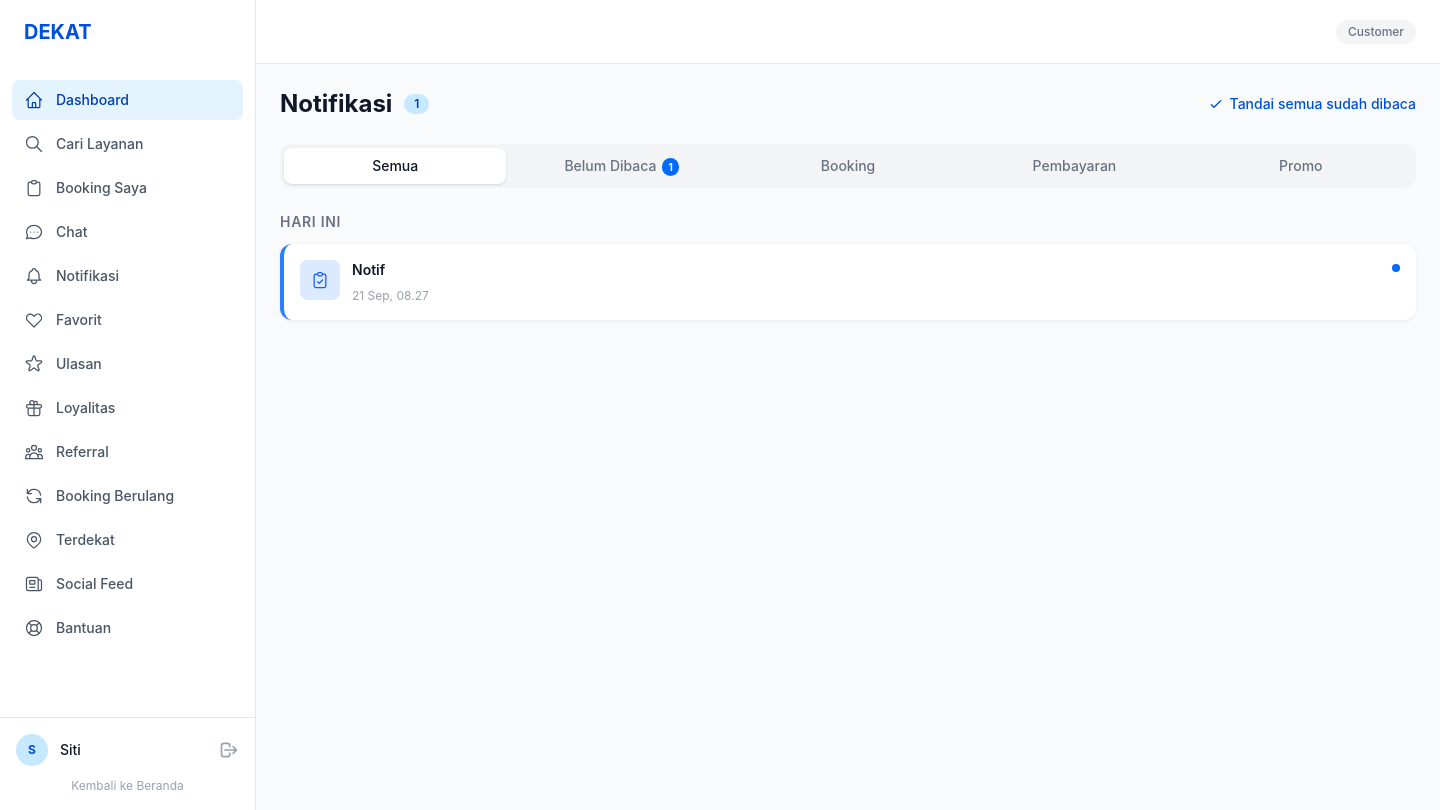
CustomerNotificationsPage › shows empty state for specific filter
Expected: the text "Notif" is shown, 352,260 -> 385,280
Step 1. Click the button "Promo" → [1301, 166], box 1190,148 -> 1412,184
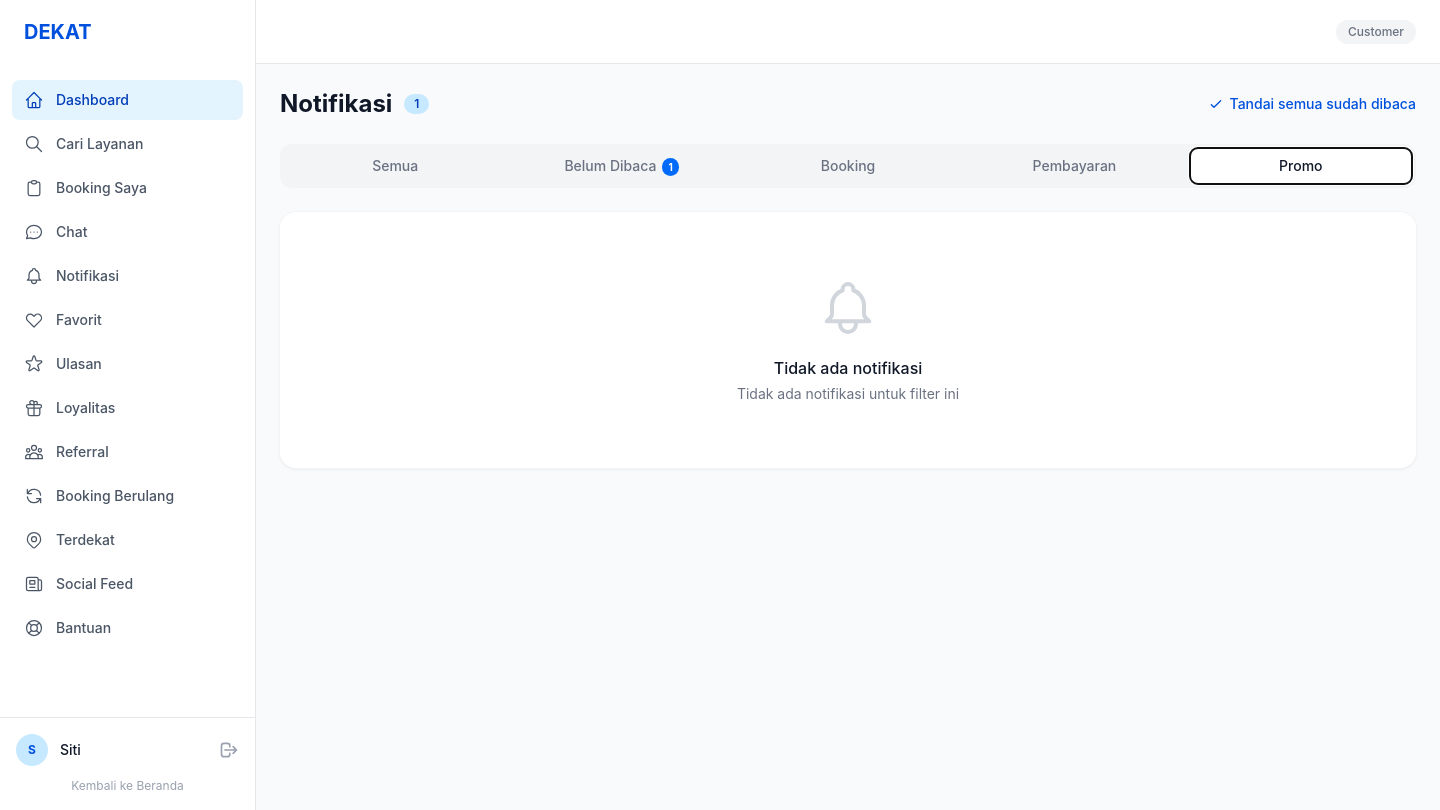
Now the text "Tidak ada notifikasi untuk filter ini" is shown, box 737,384 -> 959,404
